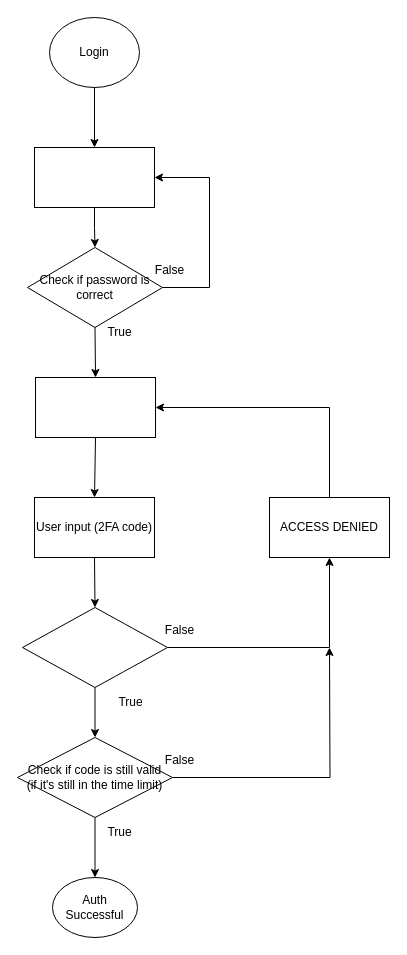
Some shapes in this 407 by 955 pixel diagram are drawn without their labels. Each missing label, with the box of its shape:
2FA CODE Needed: (34, 376, 156, 438)
Check if 2FA code matches the user input: (22, 606, 168, 688)
Enter Password: (34, 146, 154, 208)
